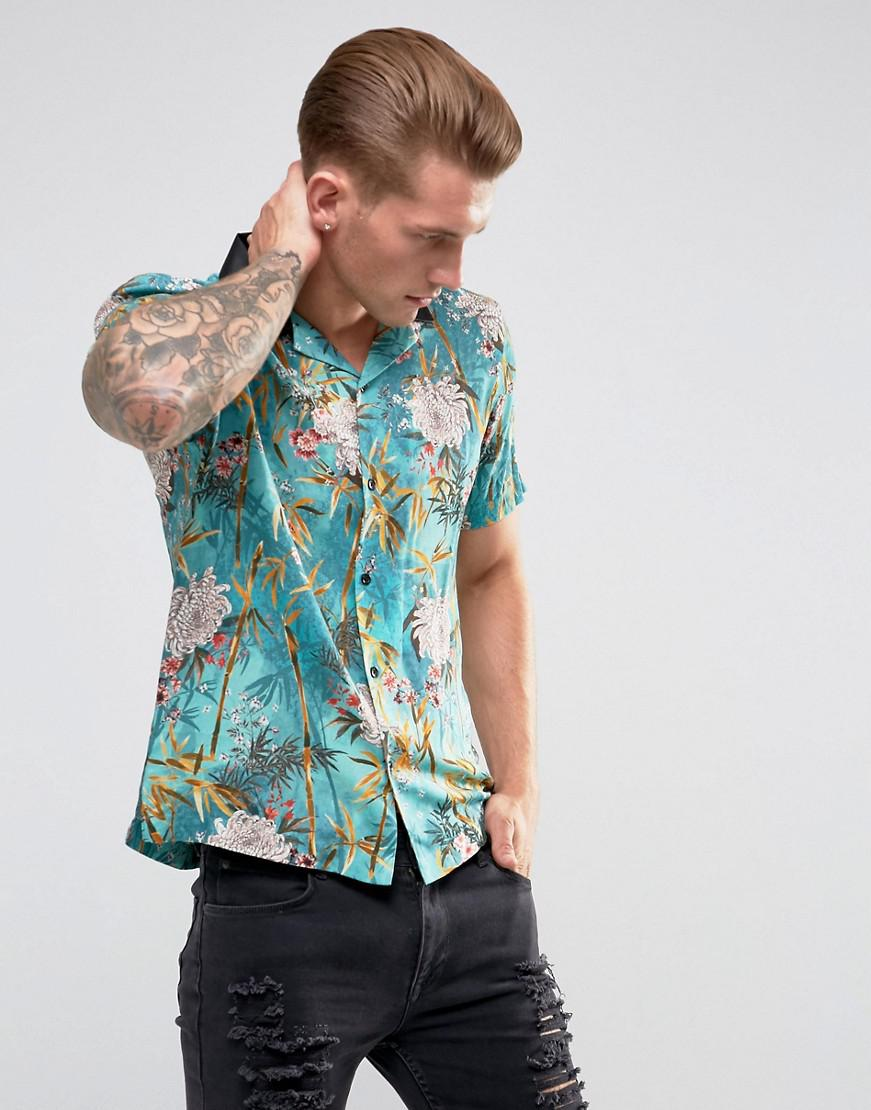teeshirt: (71, 237, 554, 905)
